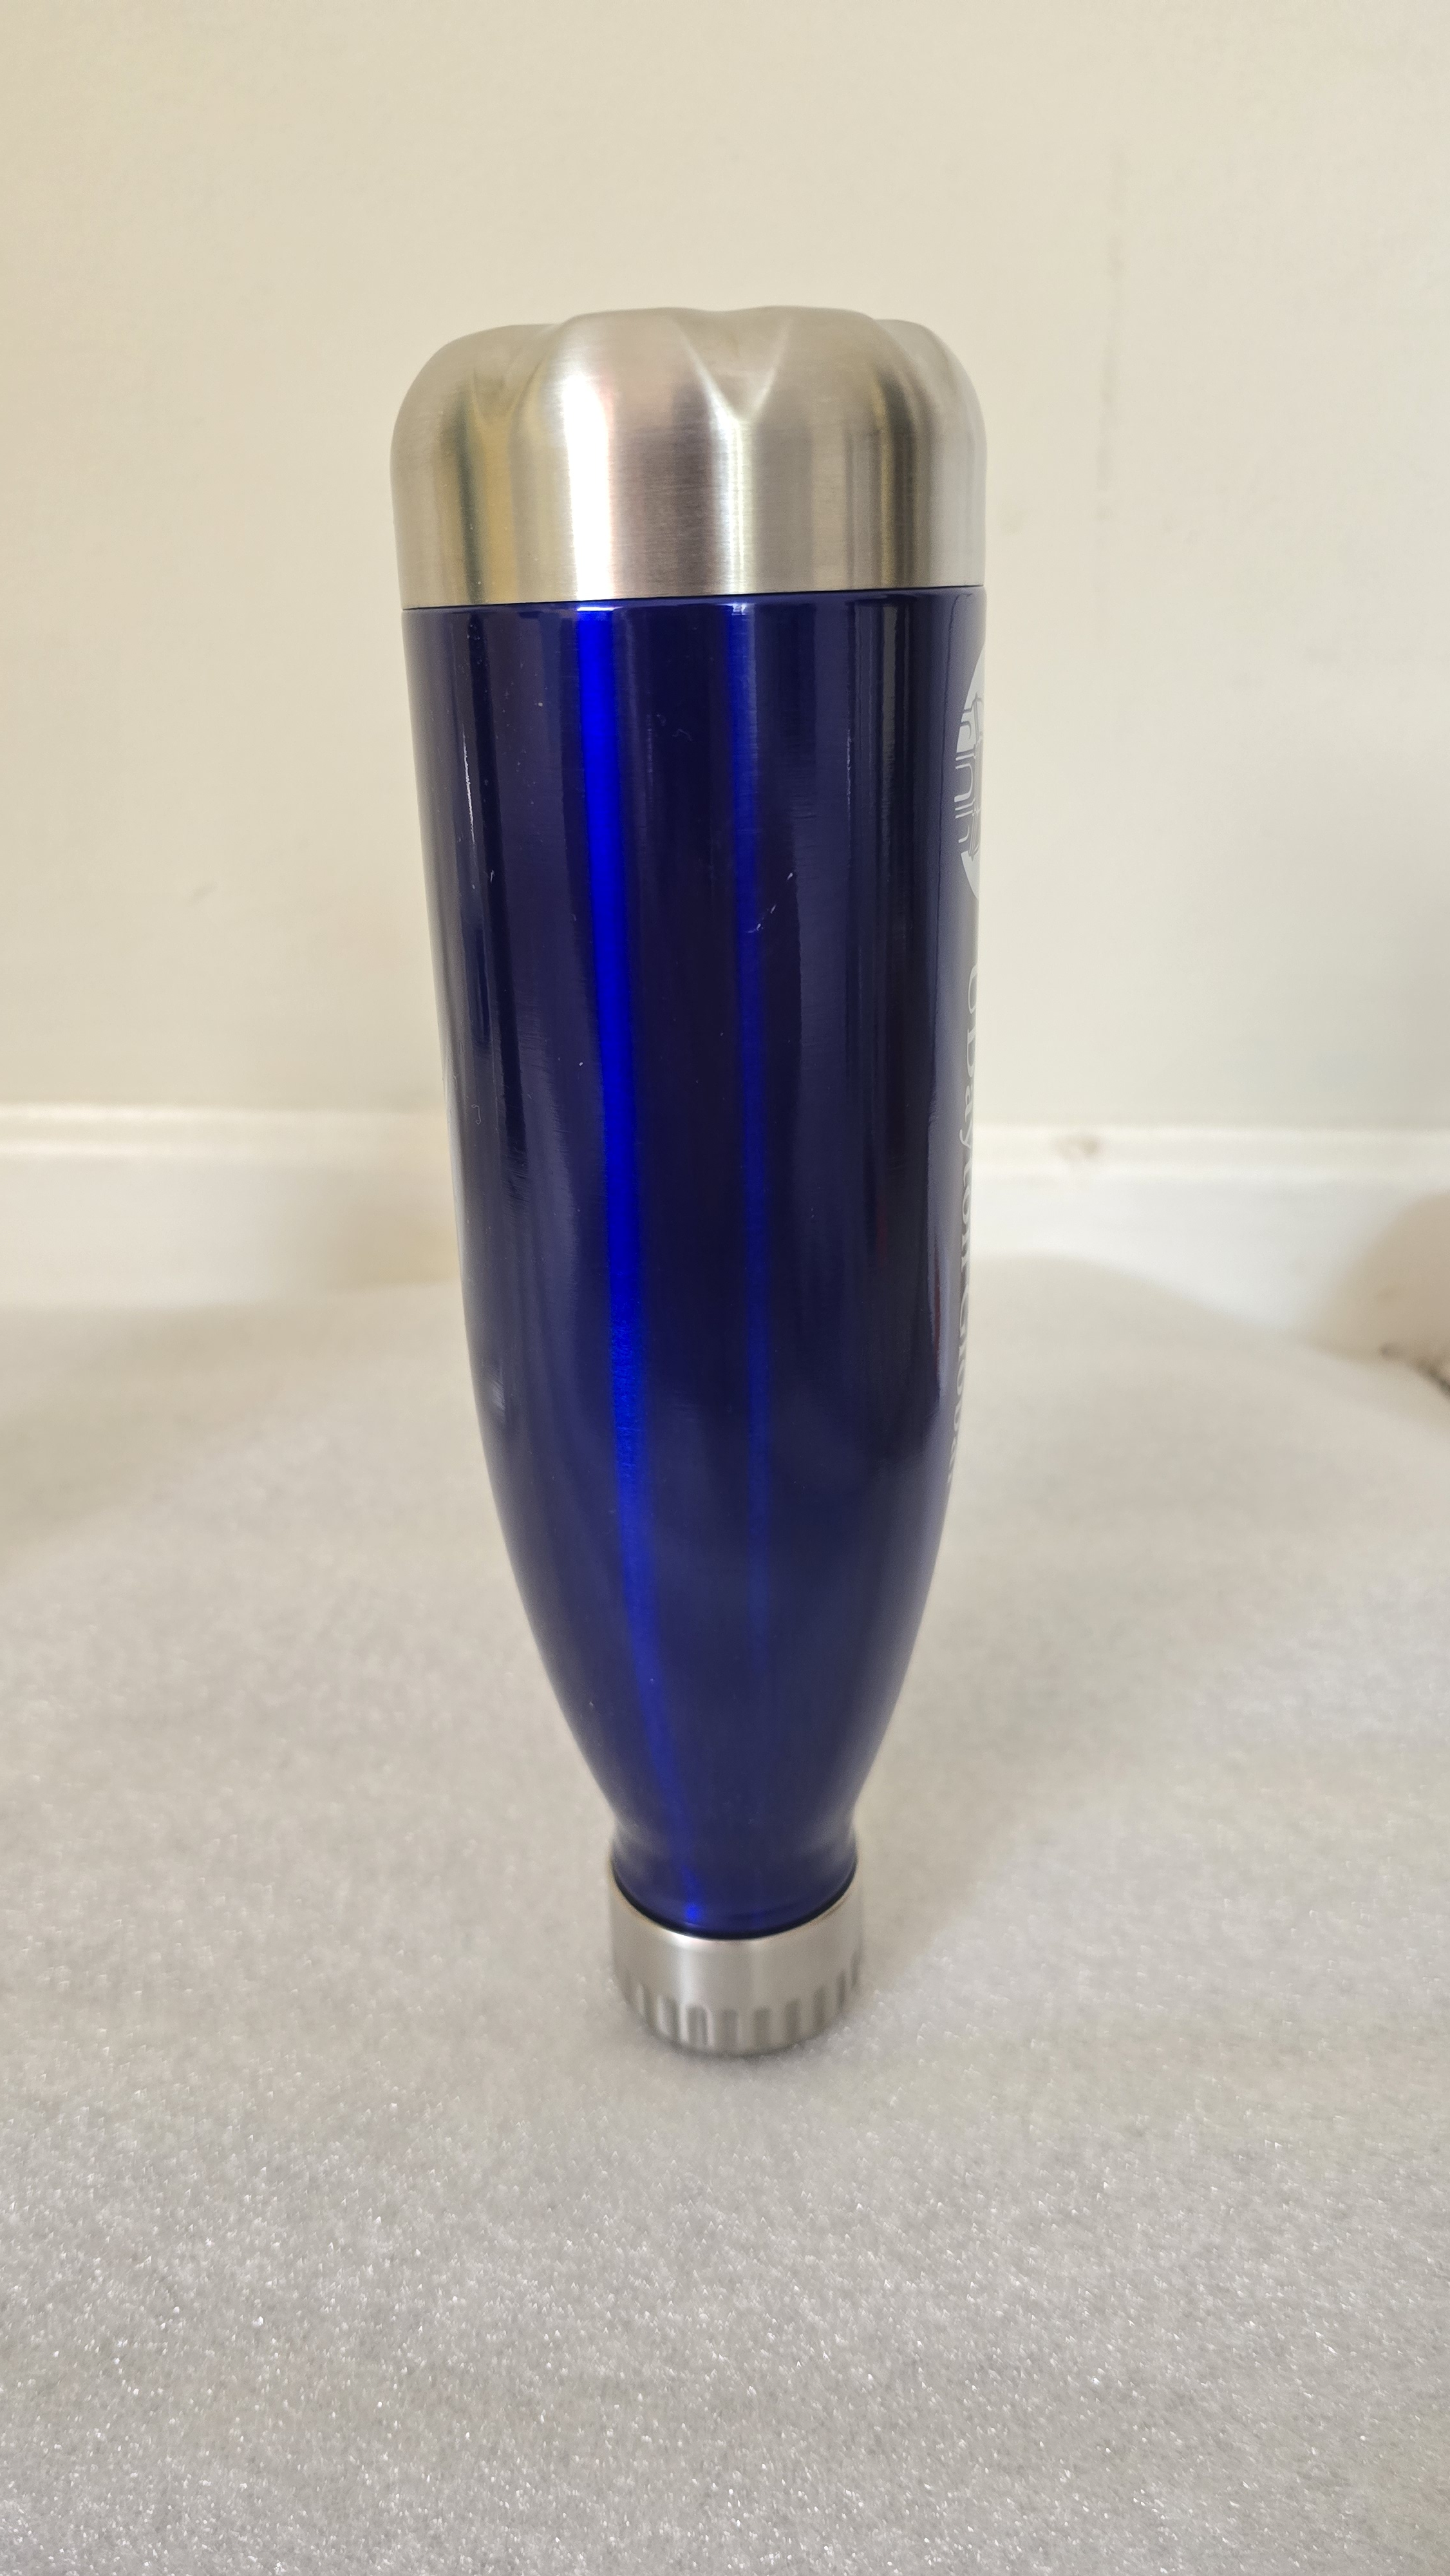bottle: (336, 241, 1020, 2088)
